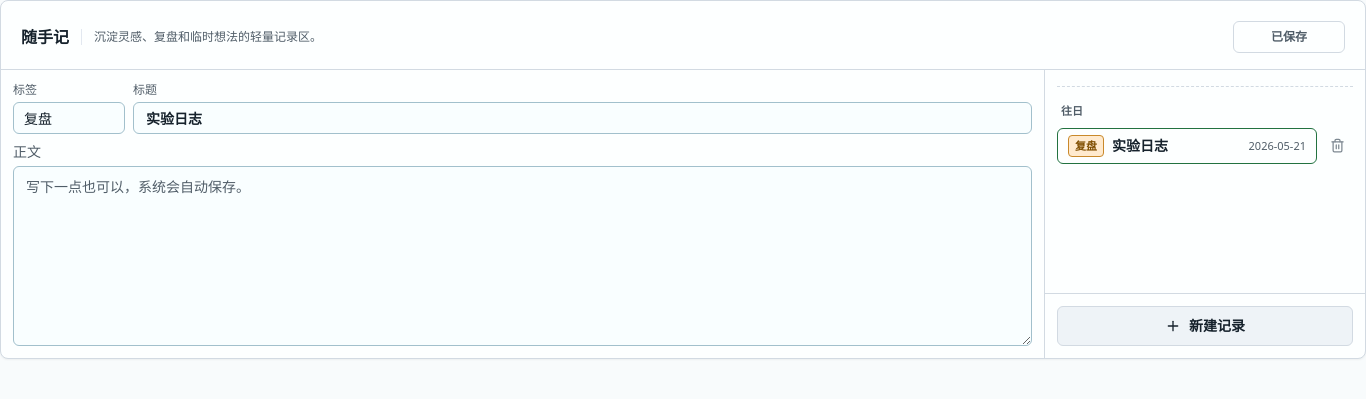
Test: QuickNotesPanel › keeps tags within four characters and deletes notes after confirmation
The image size is (1366, 399).
Expected: the button with aria-label "打开记录 实验日志" is shown, [1057, 128, 1317, 164]
Replace the text in the field named "随手记标签" with "超过四个字": [69, 118] box [13, 102, 125, 134]
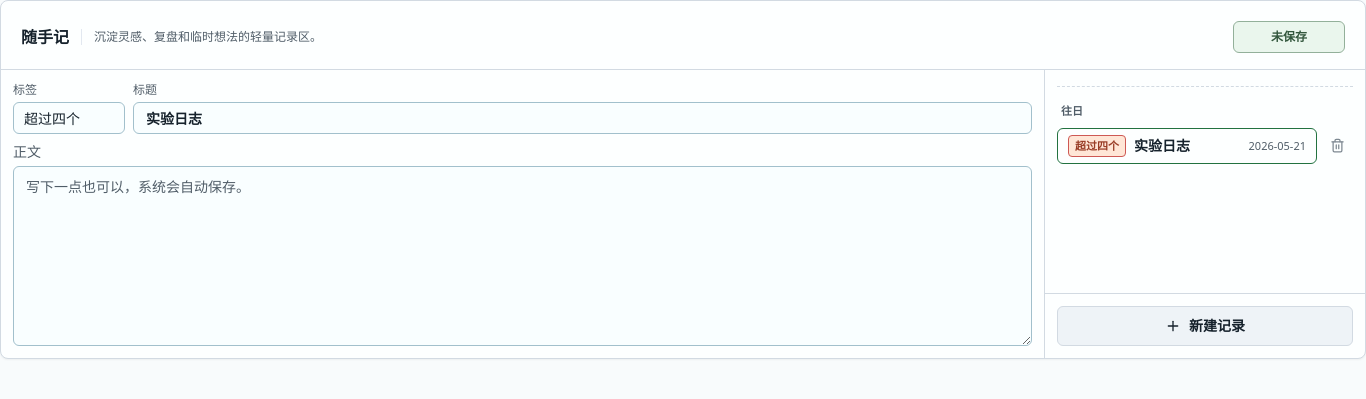
Expected: the field named "随手记标签" holds "超过四个", [13, 102, 125, 134]
Click the button named "删除记录 实验日志": [1337, 146] box [1321, 128, 1353, 164]
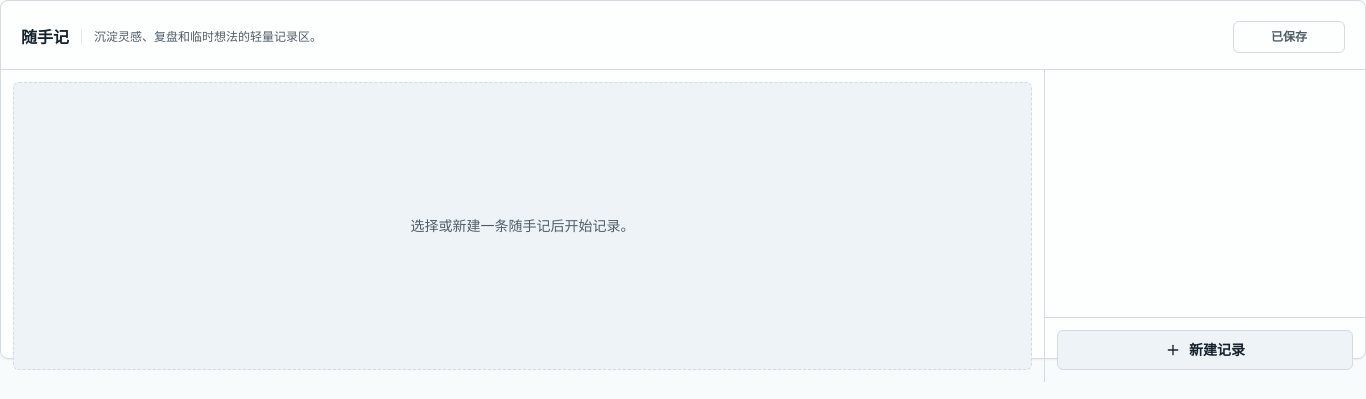
Expected: the button "实验日志" is gone
